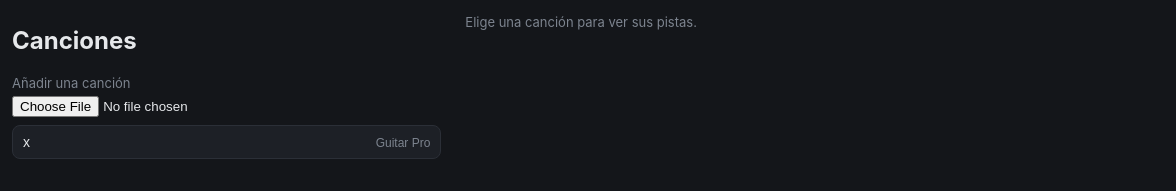
Test: Canciones › una afinacion sin perfil al que afinarse se dice sin boton muerto
The width and height of the screenshot is (1176, 191).
What coordinates should you click on to do the following:
click the text "x"
I would click on:
 (26, 142)
Its box is [23,134,30,150].
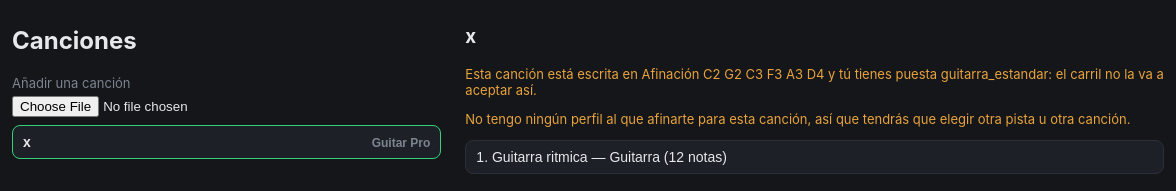
Expected: the text "No tengo ningún perfil al que afinarte" is shown, [465,111,1130,127]
